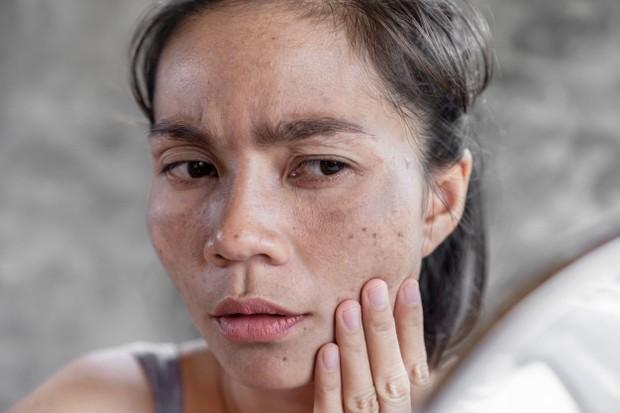Dry-Skin: (319, 210, 378, 253), (239, 88, 293, 127), (388, 168, 431, 216), (148, 216, 209, 245)
